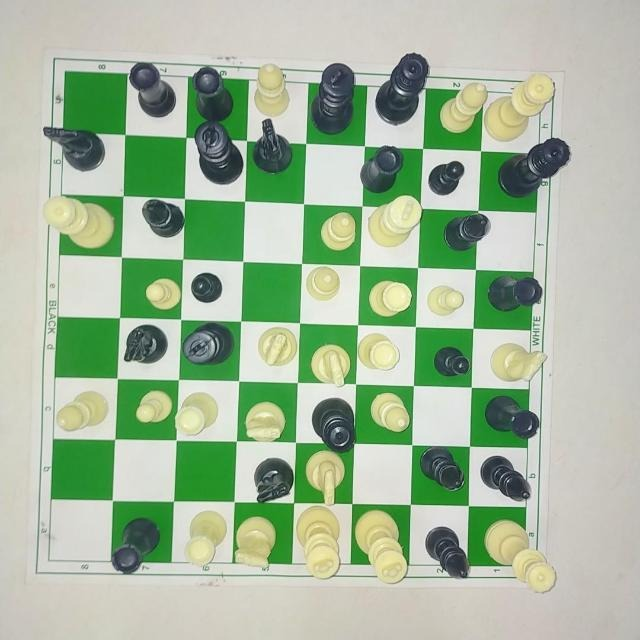black-bishop: (421, 521, 476, 583), (478, 451, 537, 505), (415, 443, 468, 495), (139, 194, 188, 240), (444, 209, 493, 252)
black-king: (308, 59, 361, 135), (194, 121, 246, 185), (179, 320, 235, 367)
black-knight: (38, 122, 113, 174), (252, 116, 298, 176), (248, 454, 297, 507), (122, 322, 172, 368)
black-pawn: (425, 158, 466, 199), (432, 343, 472, 376), (190, 270, 224, 304)
black-queen: (499, 137, 573, 205), (375, 48, 431, 128), (308, 397, 361, 452)
black-rook: (125, 58, 181, 120), (107, 515, 165, 574), (189, 64, 238, 123), (482, 393, 542, 439), (358, 142, 407, 194), (485, 272, 543, 314)
white-bishop: (439, 80, 489, 142), (51, 388, 112, 431), (252, 61, 292, 118), (318, 208, 364, 254), (369, 388, 415, 434), (304, 262, 344, 304)
white-king: (354, 508, 410, 586), (296, 506, 348, 580), (369, 195, 422, 255)
white-knight: (489, 340, 548, 386), (233, 516, 278, 574), (305, 450, 349, 505), (307, 341, 353, 387), (244, 395, 288, 443), (254, 325, 299, 367)
white-pawn: (425, 280, 469, 320), (132, 386, 171, 426), (141, 275, 183, 312)
white-queen: (485, 516, 557, 594), (490, 68, 554, 144), (40, 190, 118, 251)
white-rook: (184, 506, 228, 567), (174, 390, 220, 437), (366, 276, 413, 320), (357, 328, 401, 373)
